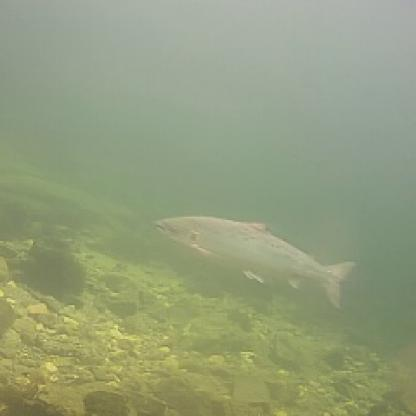salmon: (146, 206, 355, 309)
